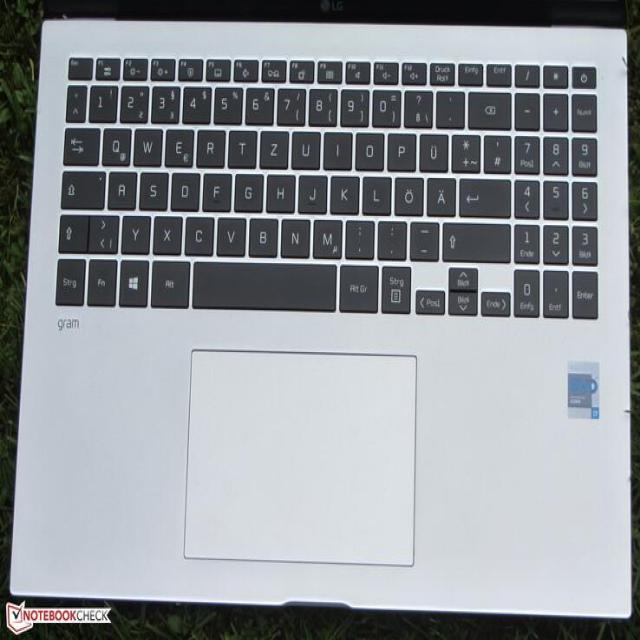0: (369, 85, 400, 124)
1: (87, 80, 115, 119)
2: (117, 80, 147, 119)
3: (148, 81, 178, 121)
4: (180, 81, 210, 121)
5: (212, 82, 241, 122)
6: (243, 82, 273, 122)
7: (274, 82, 304, 122)
8: (305, 84, 336, 123)
9: (337, 84, 368, 123)
a: (105, 166, 135, 207)
accent: (434, 85, 462, 124)
ae: (424, 172, 454, 214)
alt-left: (148, 255, 189, 305)
altgr-right: (337, 259, 377, 309)
b: (246, 212, 277, 254)
c: (182, 211, 213, 253)
caret: (63, 81, 85, 119)
comma: (343, 215, 372, 255)
d: (168, 168, 198, 208)
del: (465, 86, 510, 127)
e: (162, 123, 192, 164)
enter: (456, 173, 508, 213)
f: (199, 168, 229, 208)
g: (232, 169, 261, 209)
h: (264, 169, 293, 209)
hash: (481, 130, 510, 170)
i: (321, 126, 350, 166)
j: (296, 169, 325, 211)
k: (328, 170, 357, 211)
keyboard: (49, 49, 611, 328)
l: (359, 170, 389, 212)
less: (86, 209, 117, 250)
m: (310, 214, 341, 256)
minus: (406, 216, 437, 256)
n: (278, 213, 309, 254)
o: (352, 127, 383, 167)
oe: (391, 173, 422, 212)
p: (384, 127, 415, 167)
plus: (448, 128, 479, 169)
point: (375, 215, 405, 255)
q: (99, 122, 129, 162)
r: (193, 124, 223, 165)
s: (136, 166, 167, 207)
shift-left: (55, 211, 86, 250)
shift-lock: (58, 166, 103, 207)
shift-right: (440, 217, 508, 259)
space: (191, 257, 335, 308)
ss: (401, 85, 431, 124)
strg-left: (53, 253, 84, 302)
strg-right: (380, 263, 410, 313)
t: (226, 124, 254, 165)
tab: (61, 123, 98, 164)
u: (289, 126, 318, 166)
ue: (416, 128, 447, 169)
v: (214, 211, 245, 253)
w: (131, 123, 160, 162)
x: (151, 211, 180, 251)
y: (119, 210, 148, 252)
z: (257, 126, 287, 166)
